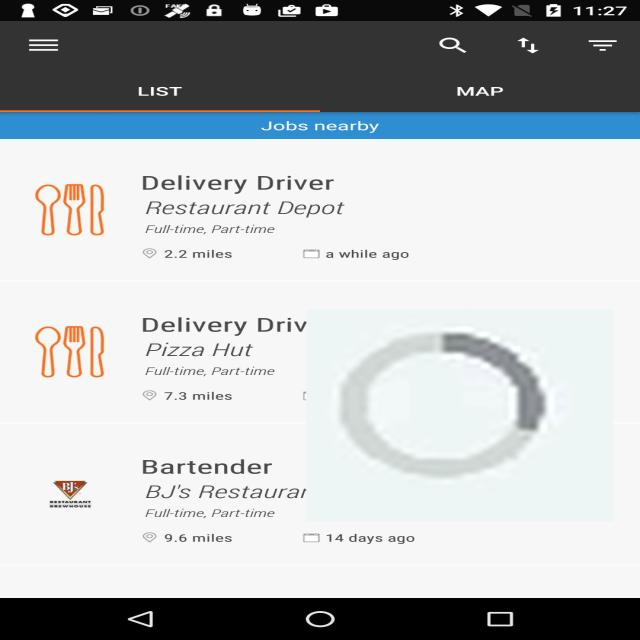misdirection: (306, 309, 614, 522)
